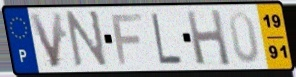0: (227, 9, 261, 66)
F: (109, 12, 144, 67)
H: (184, 7, 233, 68)
L: (149, 11, 184, 66)
N: (65, 9, 110, 70)
V: (27, 10, 65, 70)
